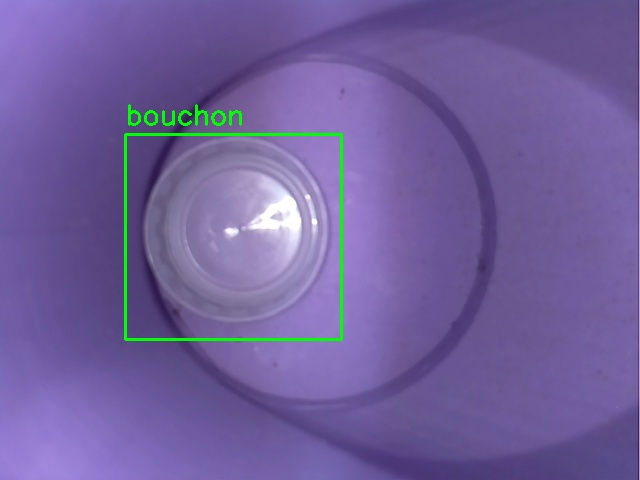bouchon: (125, 134, 341, 339)
